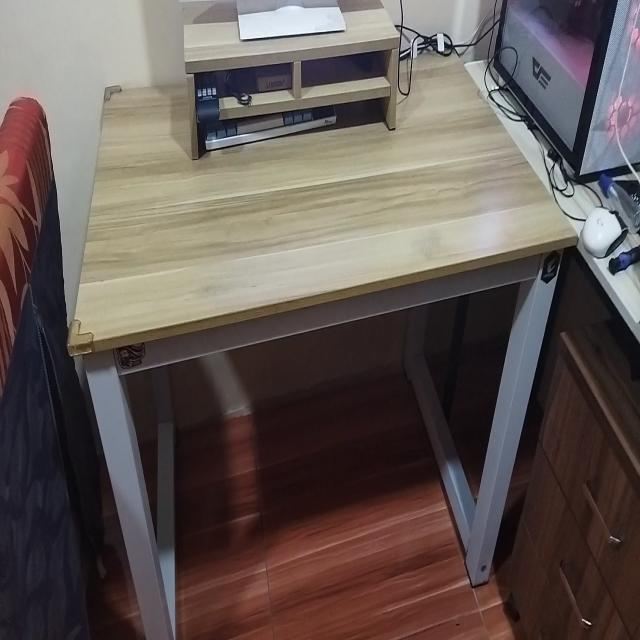table: (74, 55, 560, 640)
